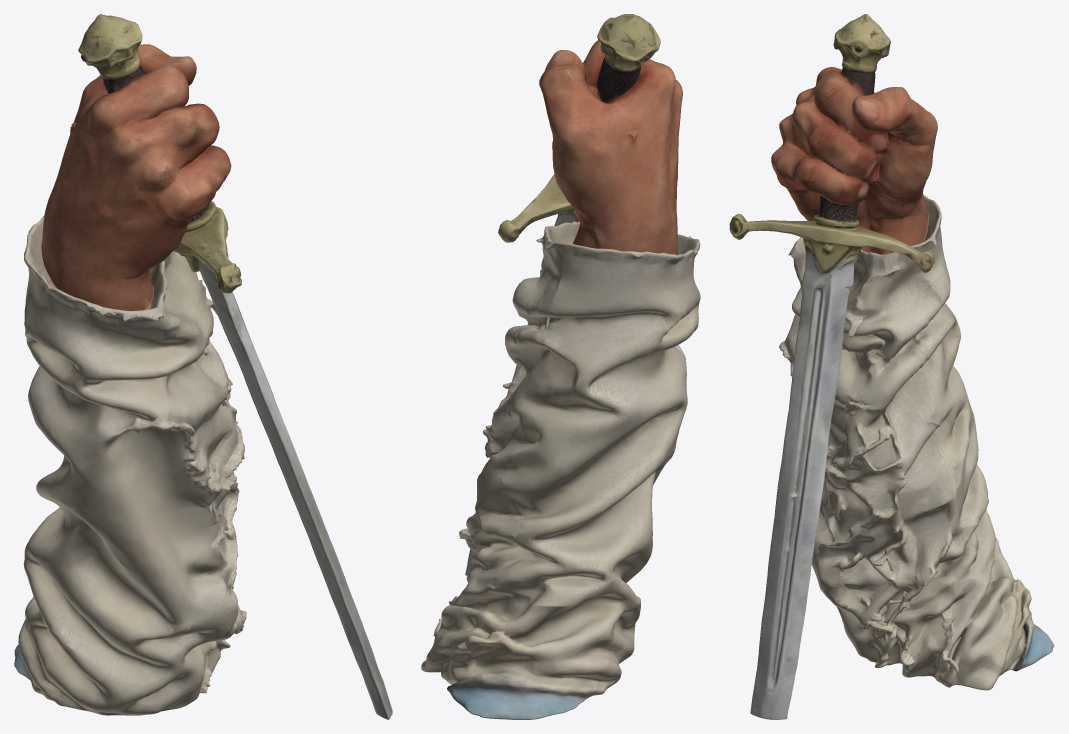
The picture shows the model from 3 angles, left to right: view 1: azimuth 30°, elevation 25°; view 2: azimuth 150°, elevation 25°; view 3: azimuth 270°, elevation 25°; orthographic projection. The views are drawn at different scales.
Parts seen in each view (by area): view 1: tripo_node_3ccd3bd5-85a2-4c5a-93d4-20579850d17c; view 2: tripo_node_3ccd3bd5-85a2-4c5a-93d4-20579850d17c; view 3: tripo_node_3ccd3bd5-85a2-4c5a-93d4-20579850d17c.
Part boxes in pixels (bbox=[...]): tripo_node_3ccd3bd5-85a2-4c5a-93d4-20579850d17c: bbox=[14, 14, 392, 719]; tripo_node_3ccd3bd5-85a2-4c5a-93d4-20579850d17c: bbox=[421, 14, 700, 719]; tripo_node_3ccd3bd5-85a2-4c5a-93d4-20579850d17c: bbox=[729, 14, 1054, 719].
Bounding box in the file's own units: 0.4413 × 1 × 0.4843.
1 material, 1 textured.
